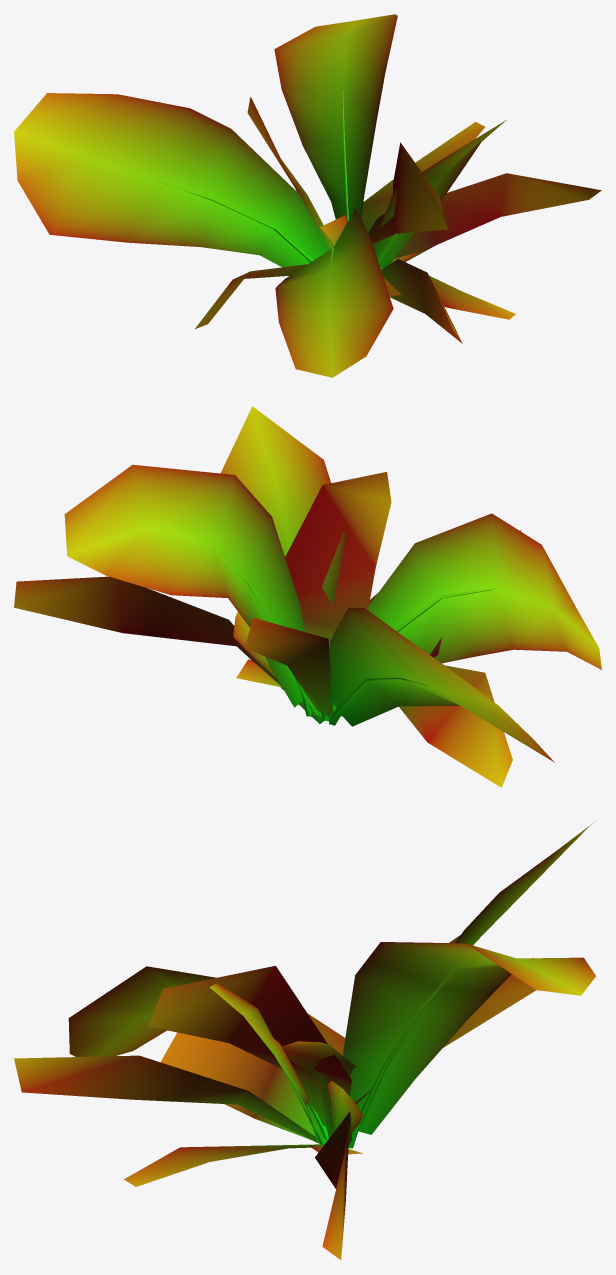
File: Silver Lady Fern_LOD3_Var4_ubolejkia.fbx
The picture shows the model from 3 angles, top to bottom: view 1: azimuth 30°, elevation 25°; view 2: azimuth 150°, elevation 25°; view 3: azimuth 270°, elevation 25°; orthographic projection. The views are drawn at different scales.
Parts seen in each view (by area): view 1: _0a88_Var4_LOD3; view 2: _0a88_Var4_LOD3; view 3: _0a88_Var4_LOD3.
Part boxes in pixels (x1,y1,x2,y2): _0a88_Var4_LOD3: (14,14,601,377); _0a88_Var4_LOD3: (14,406,601,787); _0a88_Var4_LOD3: (14,821,595,1259).
Bounding box in the file's own units: 133 × 57.52 × 109.
